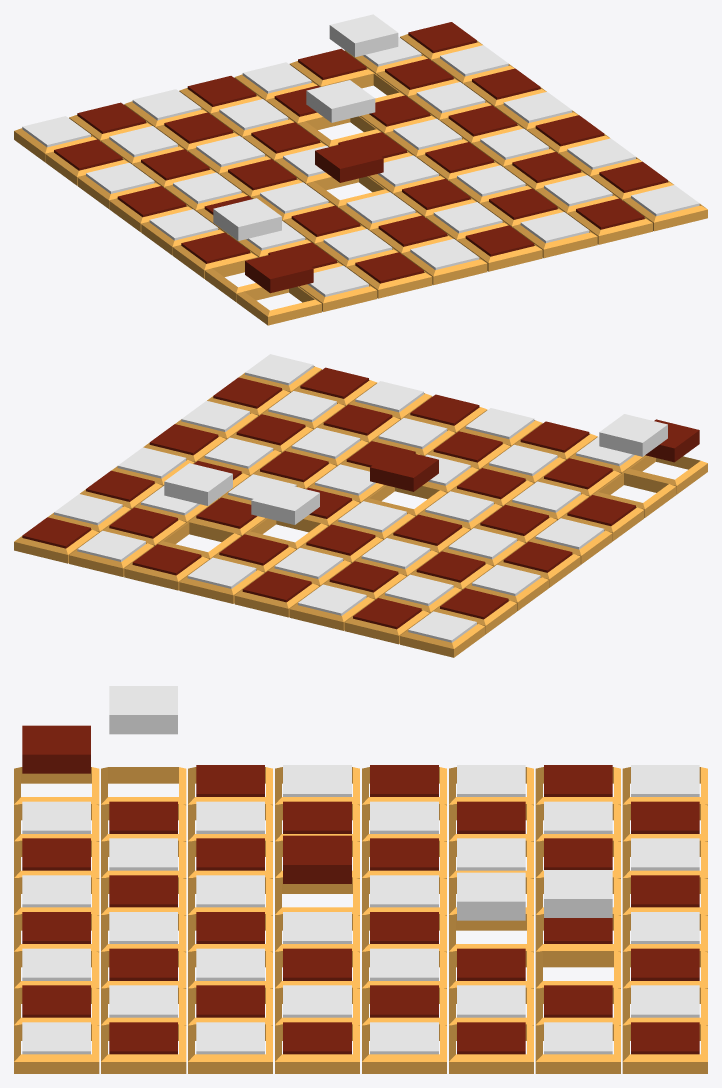
Rendered from chess6.gltf.
The picture shows the model from 3 angles, top to bottom: view 1: azimuth 30°, elevation 25°; view 2: azimuth 150°, elevation 25°; view 3: azimuth 270°, elevation 25°; orthographic projection. The views are drawn at different scales.
Visible parts, largest first — view 1: tile.016, tile.031, tile.049, tile.003, tile.048, trim.049, tile.032, tile.040, tile.011, tile.034, tile.041, tile.043 (+105 smaller); view 2: tile.016, tile.003, tile.048, tile.031, trim.048, trim.049, trim.036, trim.031, tile.054, tile.009, tile.010, tile.017 (+106 smaller); view 3: tile.003, tile.016, tile.048, tile.049, tile.031, tile.002, tile.004, tile.006, tile.007, tile.010, tile.011, tile.012 (+111 smaller).
Boxes of the visible parts, x1=… form: tile.016: x1=306, y1=80, x2=375, y2=122; tile.031: x1=329, y1=14, x2=398, y2=57; tile.049: x1=245, y1=250, x2=313, y2=293; tile.003: x1=315, y1=140, x2=383, y2=182; tile.048: x1=213, y1=198, x2=281, y2=240; trim.049: x1=236, y1=286, x2=321, y2=325; tile.032: x1=242, y1=62, x2=311, y2=93; tile.040: x1=433, y1=202, x2=502, y2=233; tile.011: x1=535, y1=115, x2=604, y2=146; tile.034: x1=132, y1=89, x2=201, y2=120; tile.041: x1=465, y1=225, x2=534, y2=256; tile.043: x1=410, y1=239, x2=479, y2=269; tile.016: x1=251, y1=482, x2=319, y2=524; tile.003: x1=370, y1=449, x2=438, y2=491; tile.048: x1=599, y1=414, x2=667, y2=456; tile.031: x1=164, y1=463, x2=232, y2=505; trim.048: x1=593, y1=473, x2=676, y2=517; trim.049: x1=623, y1=455, x2=707, y2=494; trim.036: x1=400, y1=623, x2=485, y2=657; trim.031: x1=158, y1=522, x2=241, y2=559; tile.054: x1=323, y1=404, x2=392, y2=435; tile.009: x1=535, y1=518, x2=604, y2=549; tile.010: x1=117, y1=447, x2=186, y2=478; tile.017: x1=306, y1=524, x2=375, y2=555; tile.003: x1=283, y1=835, x2=351, y2=883; tile.016: x1=457, y1=872, x2=525, y2=920; tile.048: x1=109, y1=686, x2=177, y2=734; tile.049: x1=22, y1=725, x2=90, y2=773; tile.031: x1=544, y1=870, x2=612, y2=917; tile.002: x1=370, y1=875, x2=438, y2=907; tile.004: x1=370, y1=838, x2=438, y2=870; tile.006: x1=370, y1=801, x2=438, y2=833; tile.007: x1=283, y1=801, x2=351, y2=833; tile.010: x1=370, y1=1022, x2=438, y2=1054; tile.011: x1=283, y1=1022, x2=351, y2=1054; tile.012: x1=370, y1=985, x2=438, y2=1017.
Bounding box in the file's own units: 15.96 × 2.49 × 15.96.
